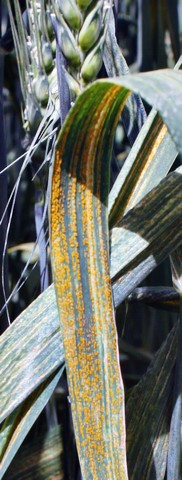Leaf Rust: (43, 142, 136, 476)
